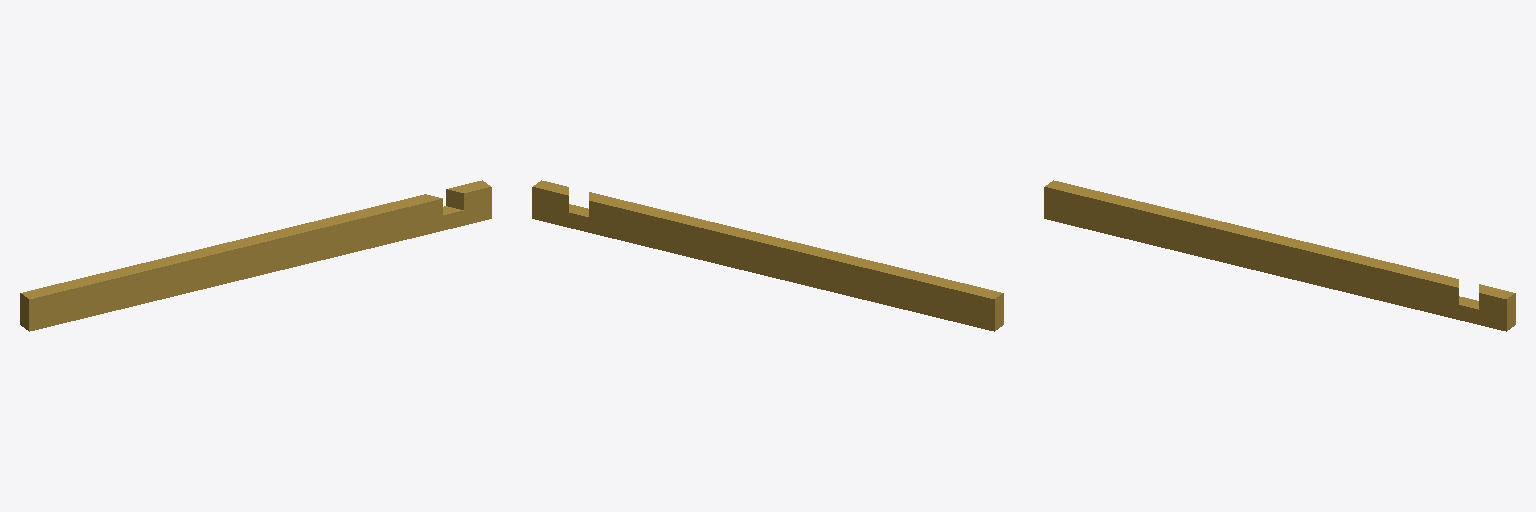
URDF robot description (beam_2C_90deg_3mm):
<?xml version="1.0" ?>
<robot name="beam_2C_90deg_3mm">


    <!-- Import Rviz colors -->
    <material name="beam_color">
        <color rgba="0.72 0.60 0.30 1.0"/>
    </material>

    <!-- Joint from Base to FT-Sensor Below -->
    <joint name="joint_base" type="fixed">
        <parent link="base"/>
        <child link="beam_2C_90deg_3mm"/>
        <origin rpy="0 0 0 " xyz="0.0 0.0 0.0"/>
        <dynamics damping="0.5"/>
    </joint>

    <!-- Virtual Base Link -->
    <link name="base">
      <inertial>
          <origin rpy="0 0 0" xyz="0 0 0"/>
          <mass value="0.001"/>
          <inertia ixx="0.001" ixy="0" ixz="0" iyy="0.001" iyz="0" izz="0.001"/>
      </inertial>
    </link>

    <!-- Beam Link -->
    <link name="beam_2C_90deg_3mm">
        <inertial>
            <origin rpy="0 0 0" xyz="-7.039904321215437e-17 2.2221920205856806e-20 -0.00028483352761386483"/>
            <mass value="1.9549599948003116"/>
            <inertia ixx="2.6080195612833765e-06" ixy="3.914636633752519e-39" ixz="-9.306456843444792e-22" iyy="0.0005179224270478861" iyz="-6.979084825602558e-24" izz="0.000516357052770553"/>
        </inertial>
        <visual>
            <geometry>
                <mesh filename="gripper_double_notch_delta_target__unilateral/meshes/visual/gripper_double_notch_delta_target__unilateral.stl"/>
            </geometry>
            <material name="beam_color"/>
        </visual>
        <collision>
            <geometry>
                <mesh filename="gripper_double_notch_delta_target__unilateral/meshes/collision/delta_target__unilateral_00.stl"/>
            </geometry>
        </collision>
        <collision>
            <geometry>
                <mesh filename="gripper_double_notch_delta_target__unilateral/meshes/collision/delta_target__unilateral_01.stl"/>
            </geometry>
        </collision>
        <collision>
            <geometry>
                <mesh filename="gripper_double_notch_delta_target__unilateral/meshes/collision/delta_target__unilateral_02.stl"/>
            </geometry>
        </collision>
    </link>
</robot>

--- Render facts (derived) ---
Views: 3 orthographic renders of the robot side by side, from view 1: azimuth 30°, elevation 25°; view 2: azimuth 150°, elevation 25°; view 3: azimuth 330°, elevation 25°.
Model beam_2C_90deg_3mm with 2 links and 1 joints (1 fixed), rooted at base, posed all joints at 0.
Visible links, largest first — view 1: beam_2C_90deg_3mm; view 2: beam_2C_90deg_3mm; view 3: beam_2C_90deg_3mm.
Link boxes in pixels (left/top/right/bottom): beam_2C_90deg_3mm: left=20, top=180, right=491, bottom=331; beam_2C_90deg_3mm: left=532, top=180, right=1003, bottom=331; beam_2C_90deg_3mm: left=1044, top=180, right=1515, bottom=331.
Bounding box of the posed robot: 1.2 × 0.04 × 0.08 m (x, y, z).
1 mesh visuals loaded from 1 distinct referenced files (1 binary STL).
